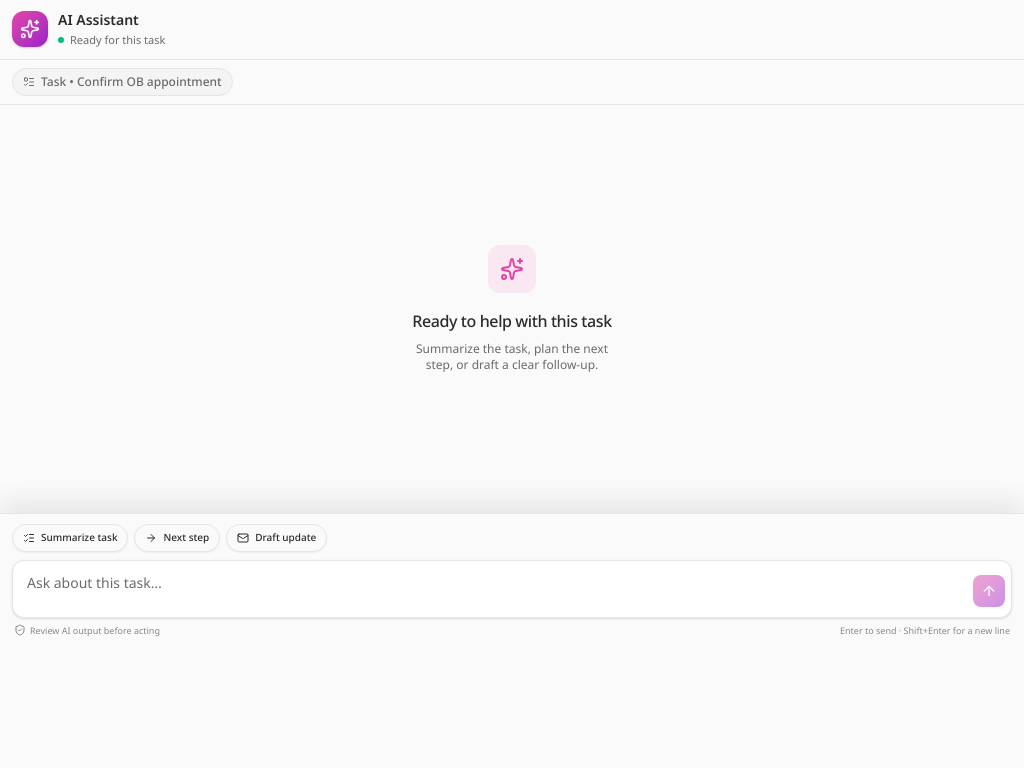
Test: AIChatPanel › keeps task context and suggested prompts task-specific
Check: the text "Task • Confirm OB appointment" is shown, box [41,74,222,90]
What coordinates should you click on to do the following:
click the button "Summarize task"
I would click on:
 (70, 538)
Its box is [12,524,128,552].
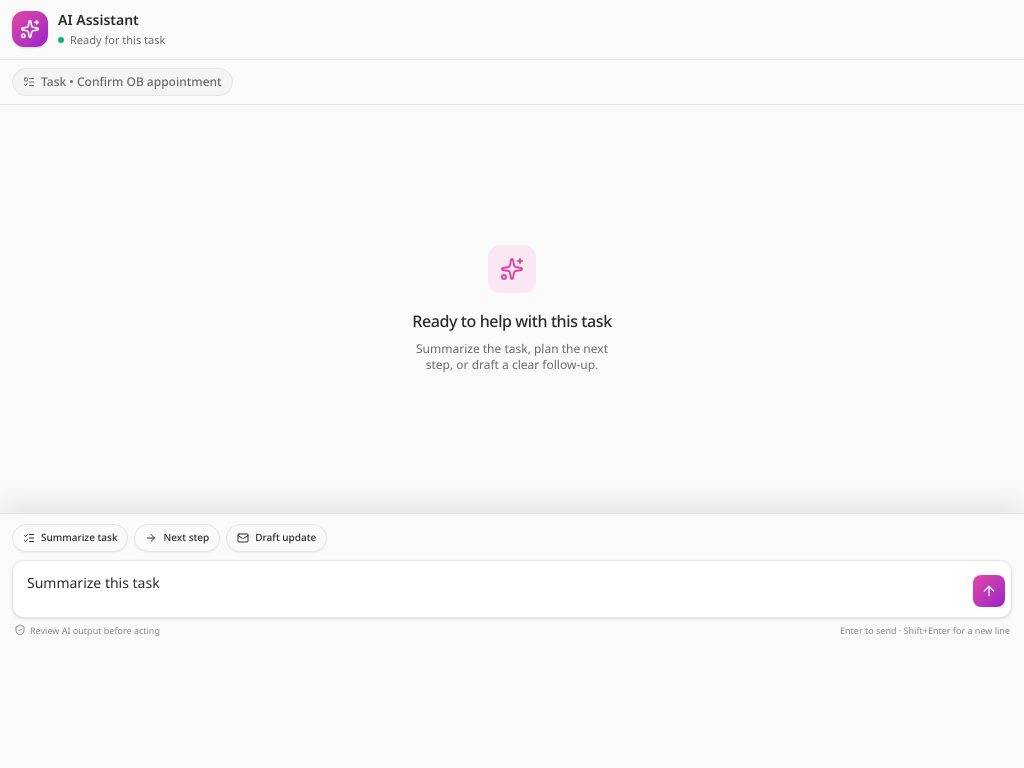
Check: the text box named "Message AI Assistant" holds "Summarize this task", box [17,564,967,612]
